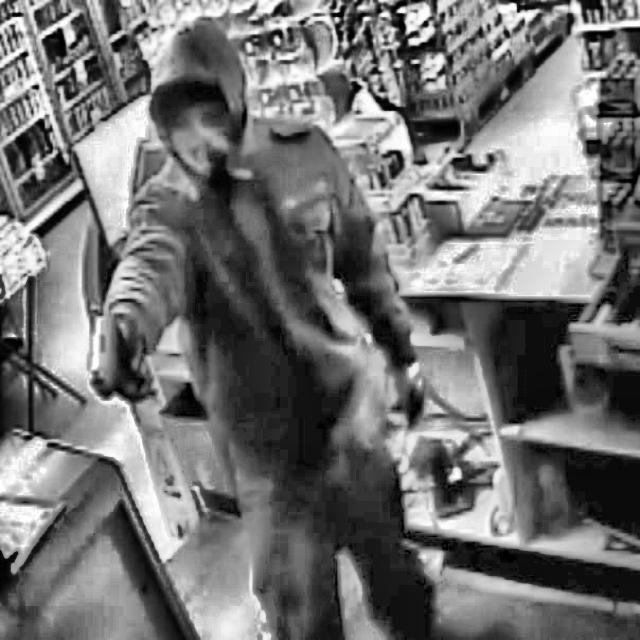robbery: (82, 22, 456, 639)
